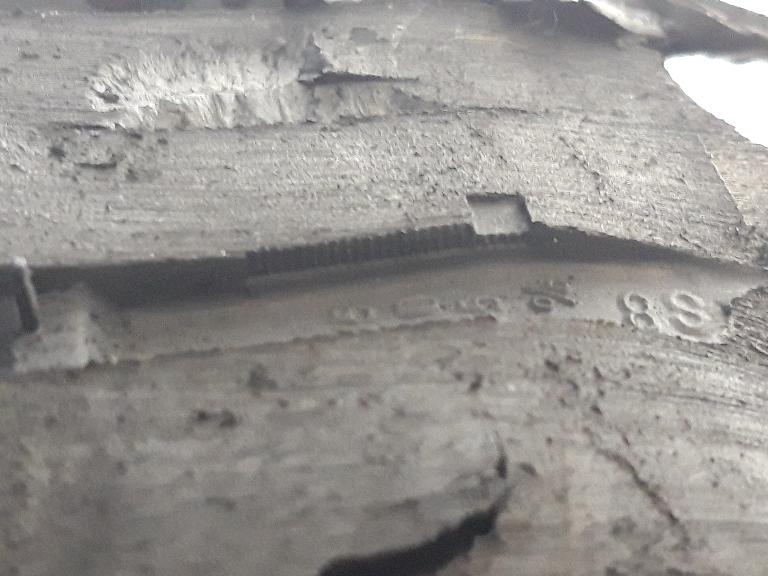temoin:25: (405, 182, 552, 270)
